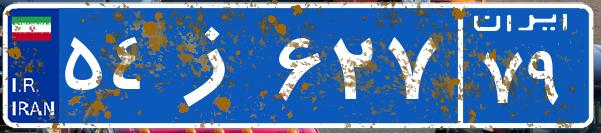2: (330, 28, 385, 110)
4: (110, 28, 158, 105)
5: (57, 26, 110, 107)
6: (273, 28, 330, 110)
7: (385, 28, 445, 110), (475, 38, 525, 113)
9: (525, 38, 570, 115)
ز: (158, 15, 273, 115)
